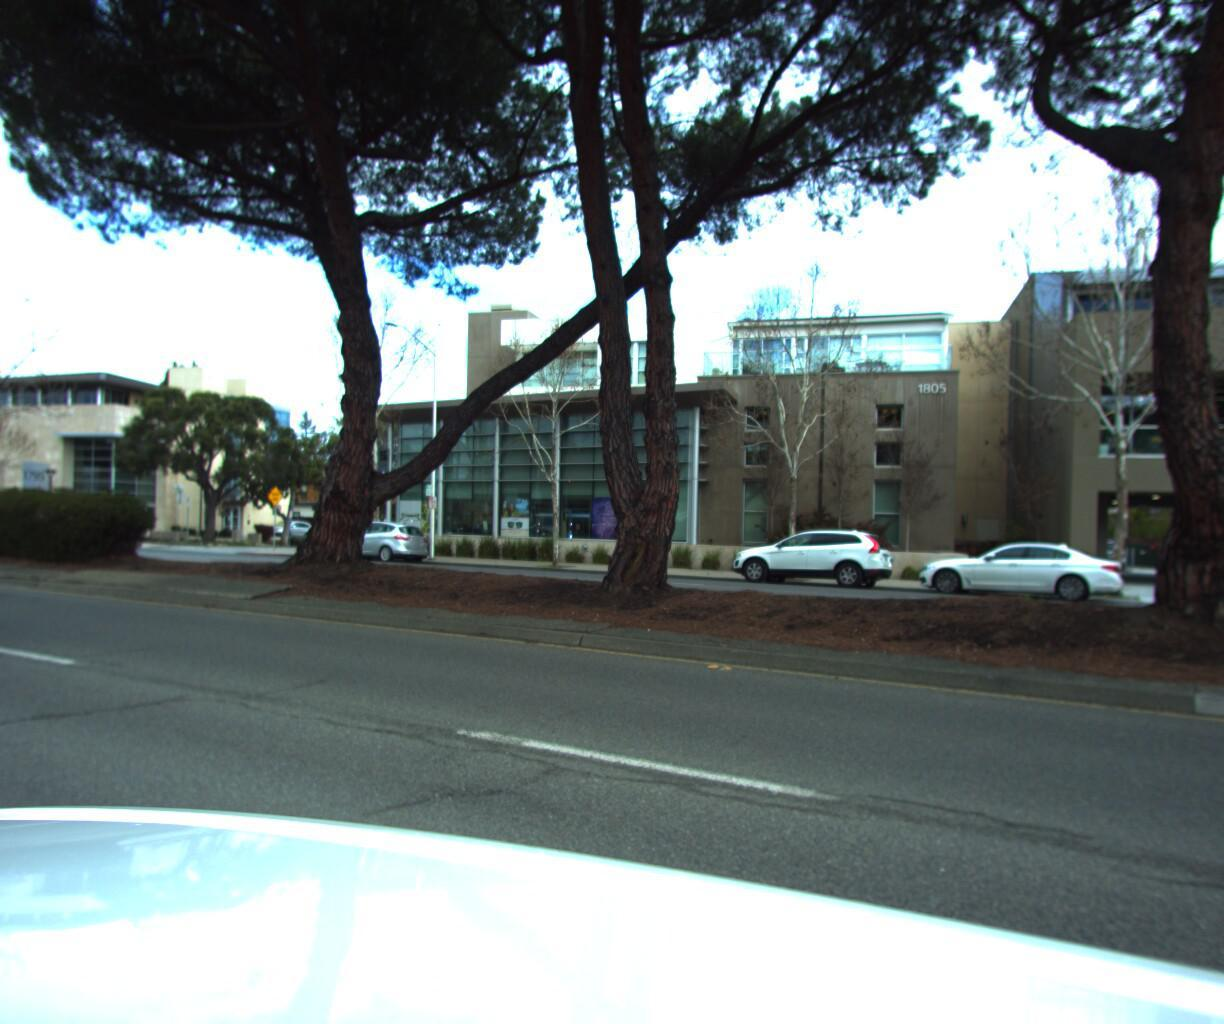car: (909, 531, 1121, 601), (723, 520, 896, 589), (317, 516, 433, 561)
